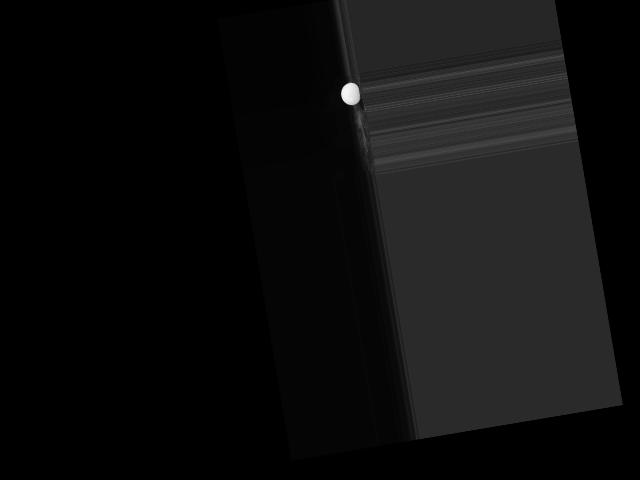egg: (339, 81, 361, 107)
